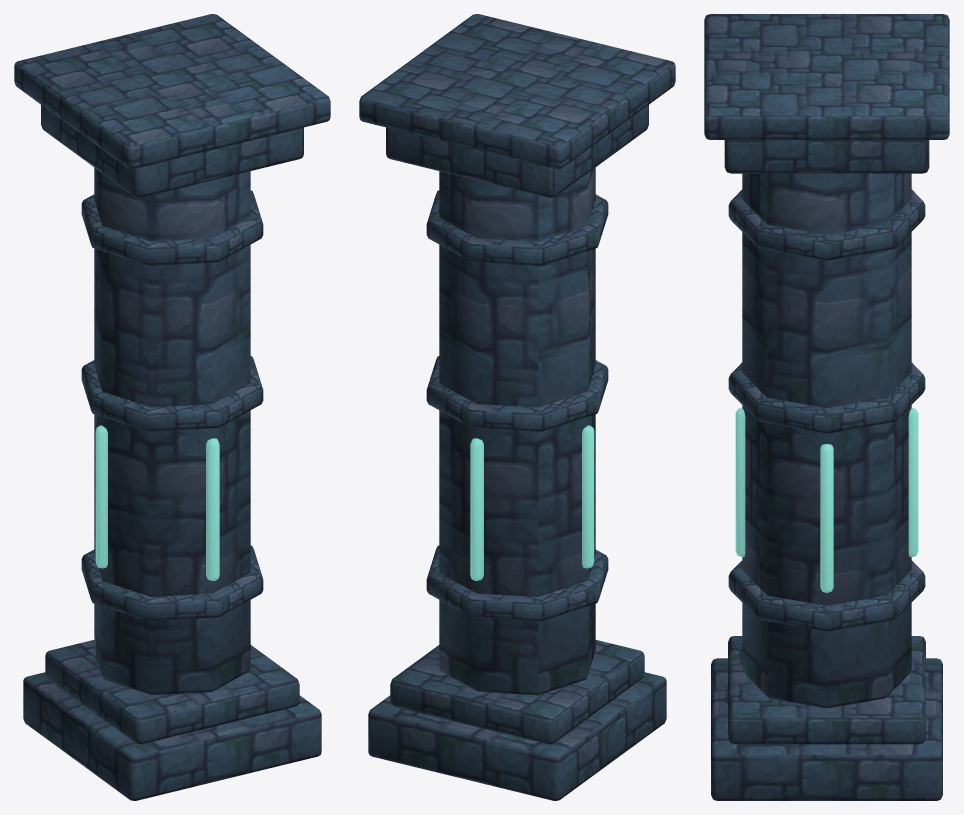
Rendered from carved_pillar.gltf.
3 renders of one model, left to right at view 1: azimuth 30°, elevation 25°; view 2: azimuth 150°, elevation 25°; view 3: azimuth 270°, elevation 25°, orthographic. The views are drawn at different scales.
Visible parts, largest first — view 1: carved_pillar; view 2: carved_pillar; view 3: carved_pillar.
Part boxes in pixels (x1,y1,x2,y2): carved_pillar: [14, 14, 330, 800]; carved_pillar: [359, 14, 675, 800]; carved_pillar: [704, 14, 949, 800].
Bounding box in the file's own units: 1.8 × 5.59 × 1.8.
Materials: 2 (2 with a texture image).
